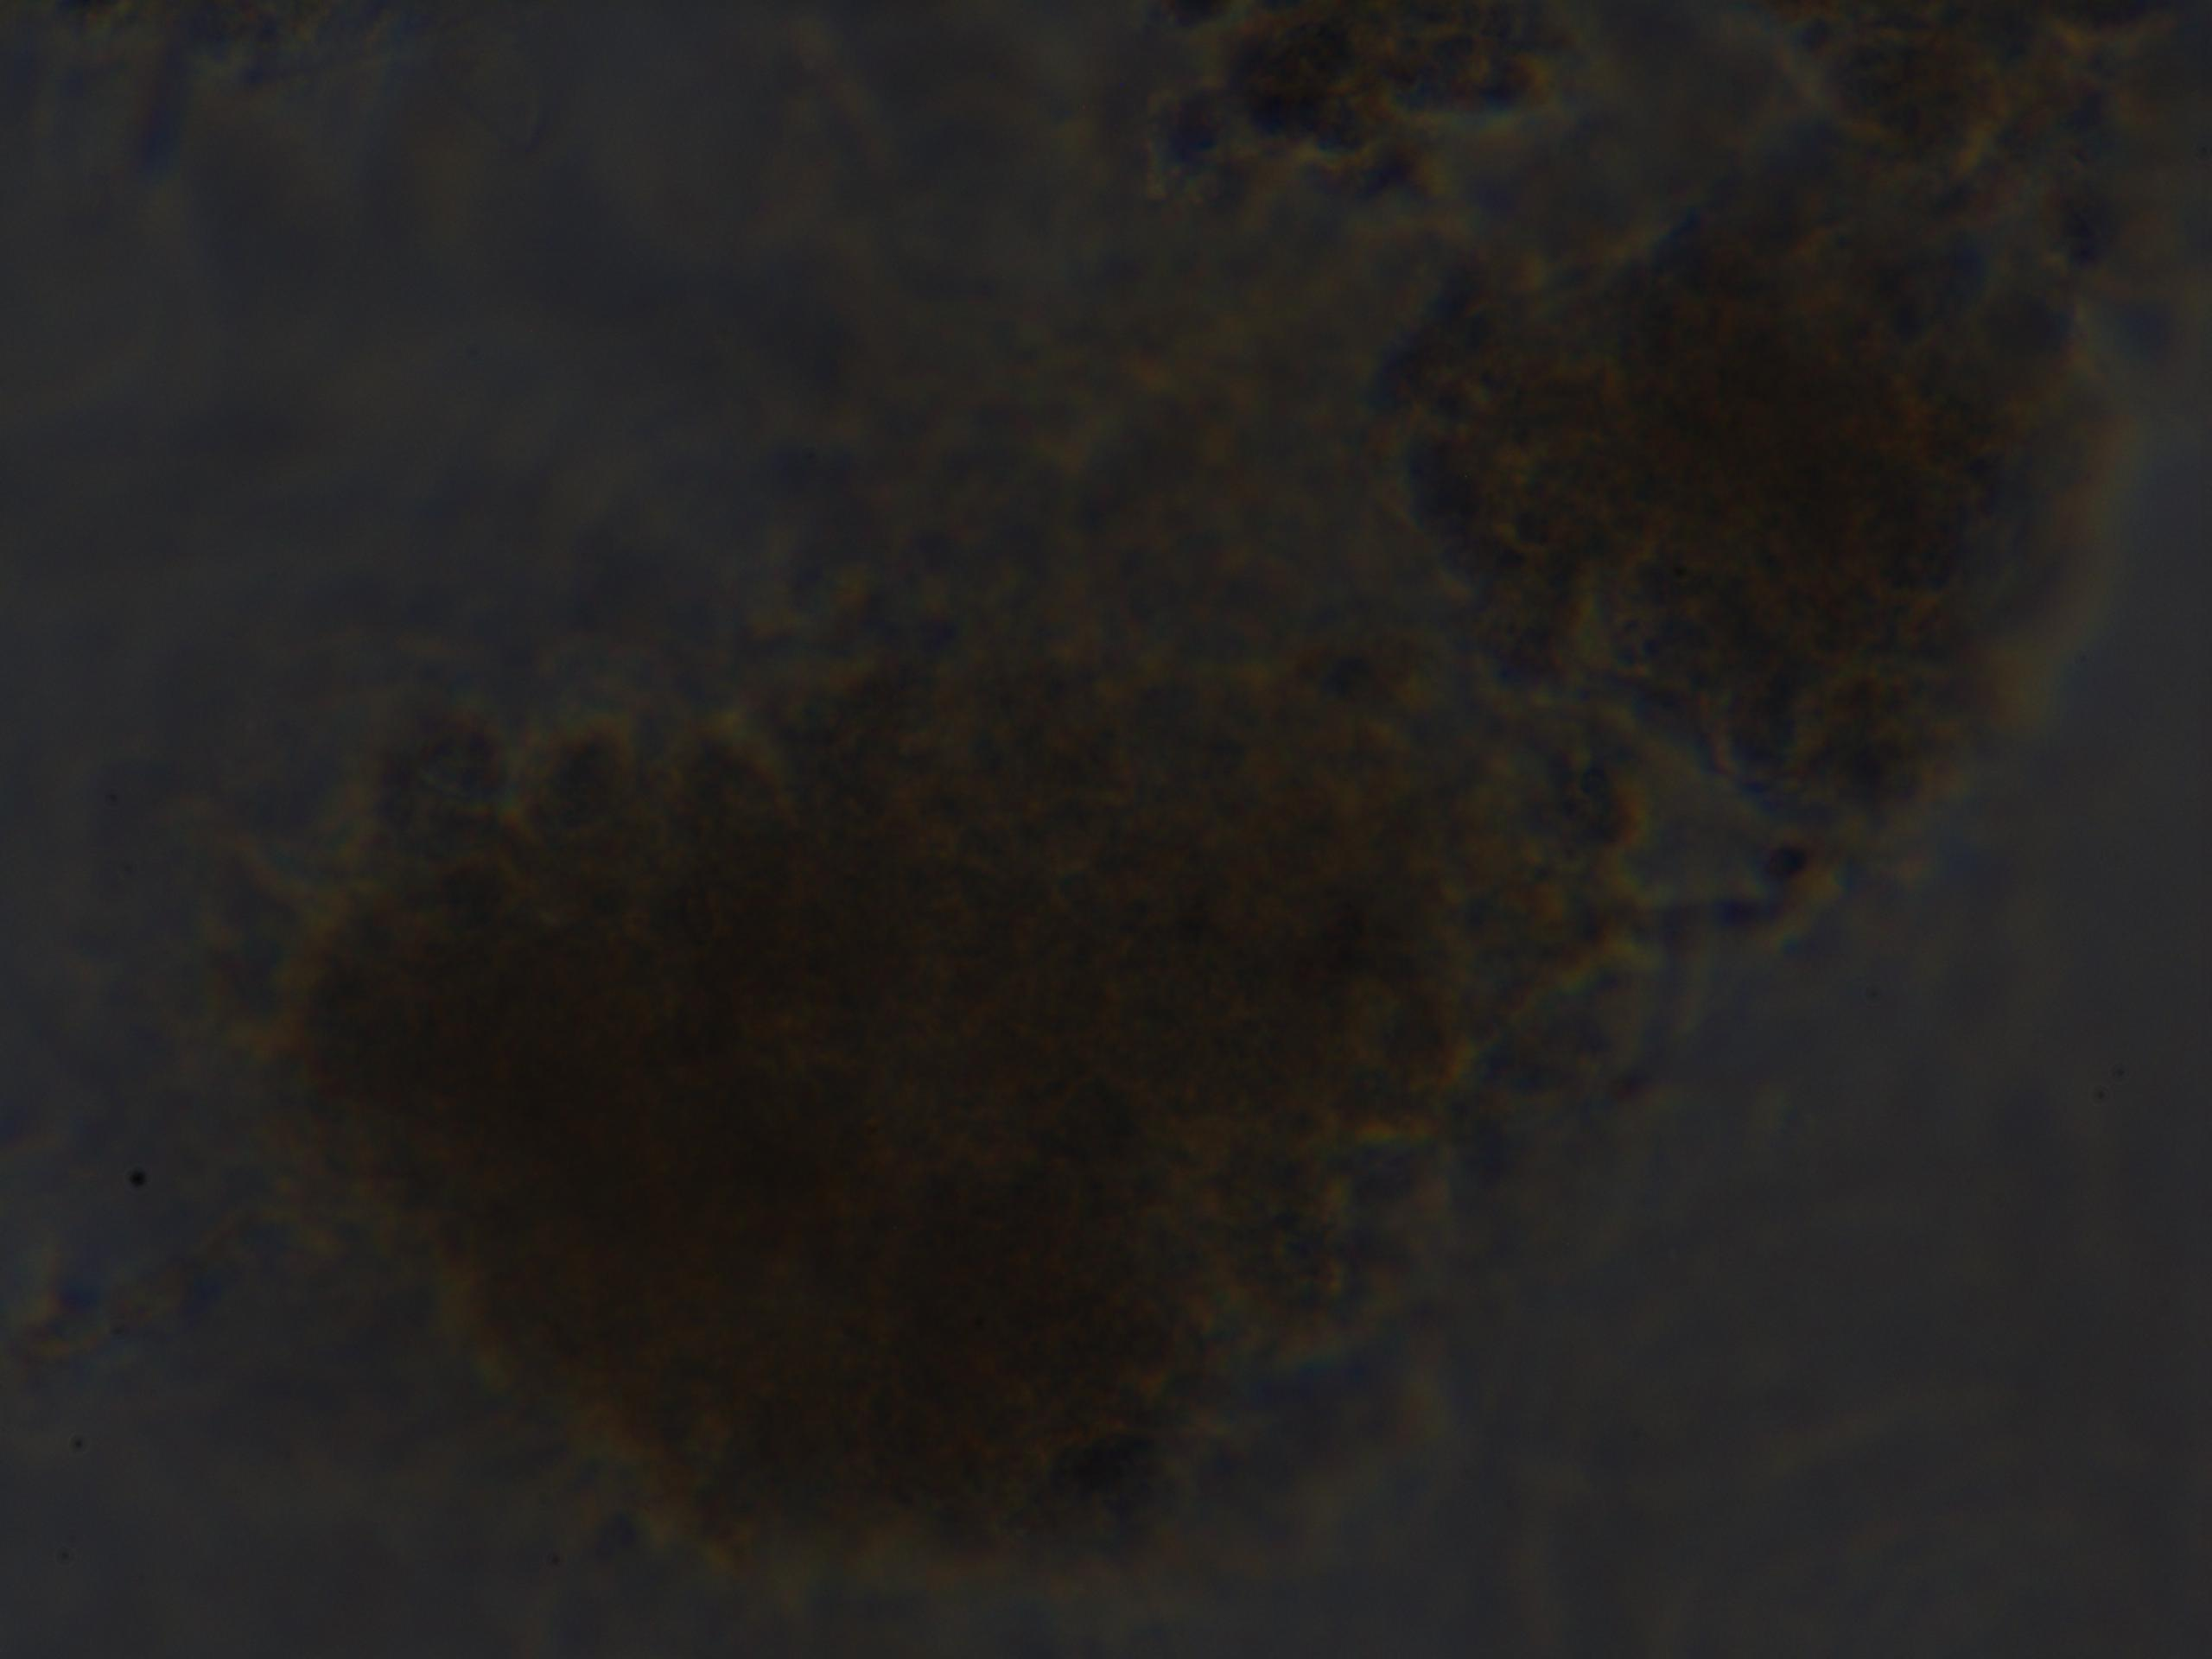spherical_floc: (249, 622, 1482, 1581)
